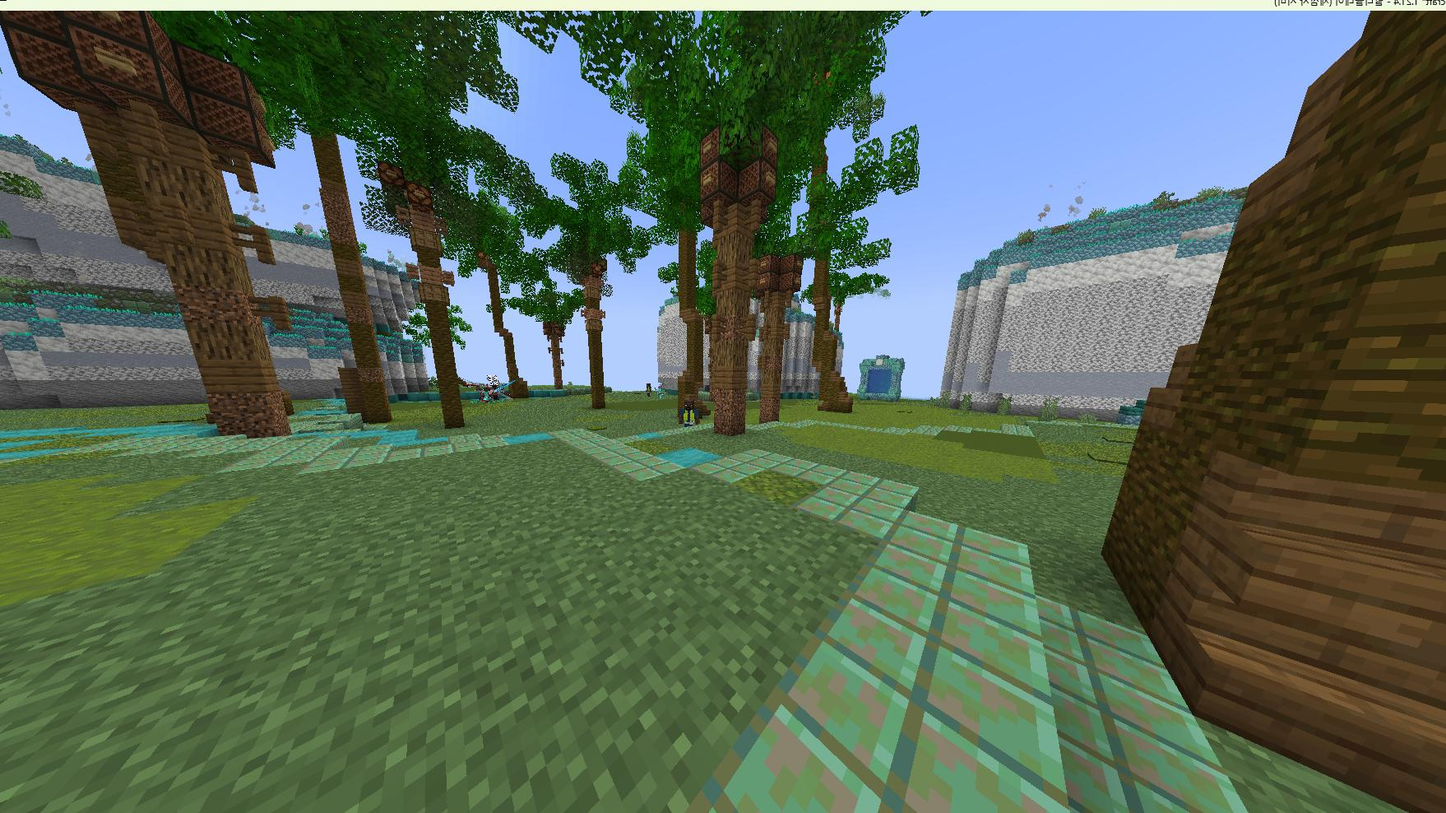Guardian: (675, 395, 705, 432)
